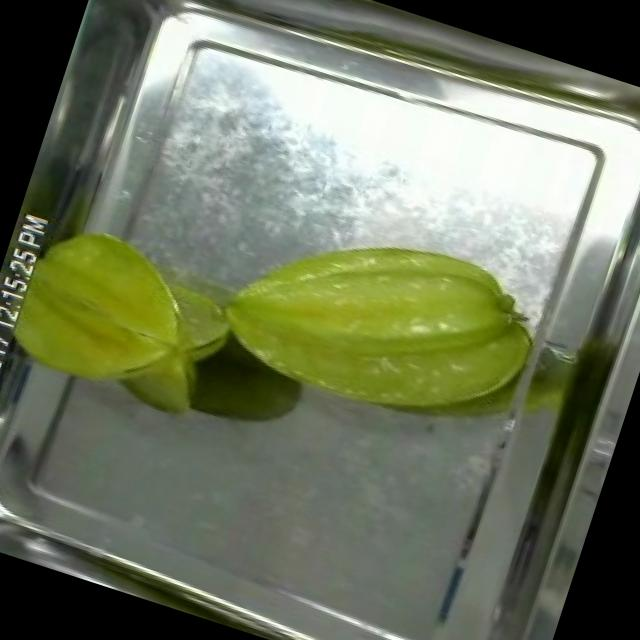fruit: (202, 186, 562, 470), (0, 202, 227, 426)
